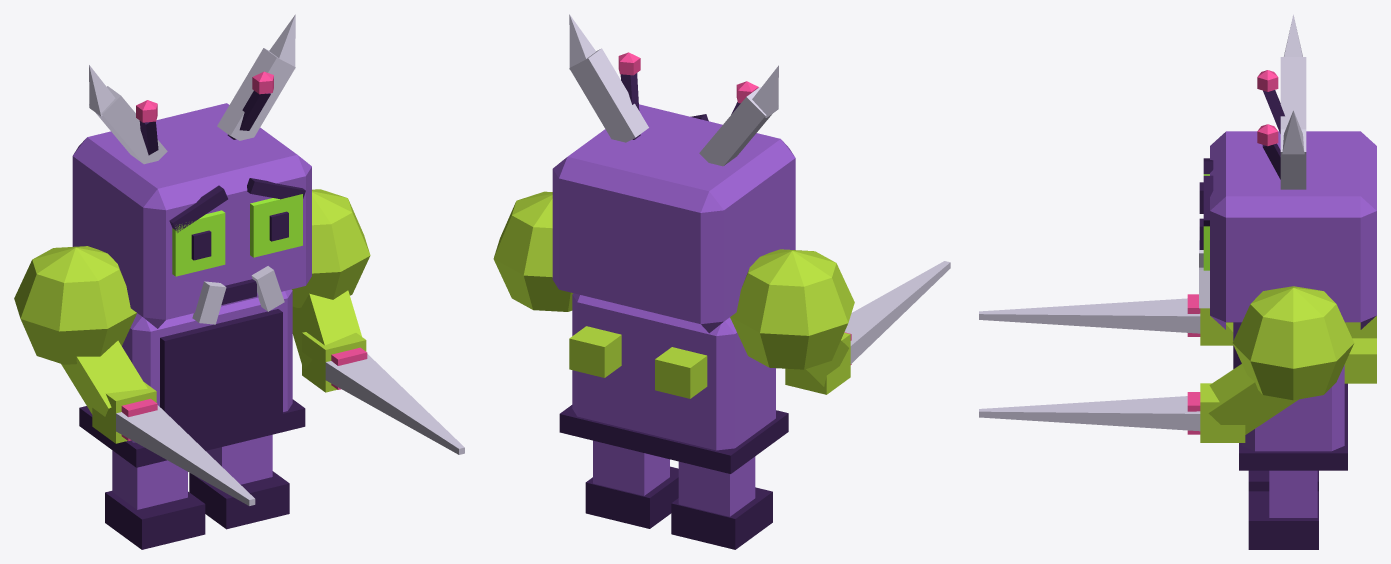
File: warlord_r11.glb
3 views of the same model, side by side, from view 1: azimuth 30°, elevation 25°; view 2: azimuth 150°, elevation 25°; view 3: azimuth 270°, elevation 25° (orthographic). The views are drawn at different scales.
Parts seen in each view (by area): view 1: warlord_r11_mesh; view 2: warlord_r11_mesh; view 3: warlord_r11_mesh.
Boxes of the visible parts, x1,y1,x2,y2 form: warlord_r11_mesh: (14, 14, 464, 549); warlord_r11_mesh: (493, 14, 950, 549); warlord_r11_mesh: (979, 14, 1376, 549).
Bounding box in the file's own units: 2.72 × 3.6 × 2.86.
1 material, 1 textured.
